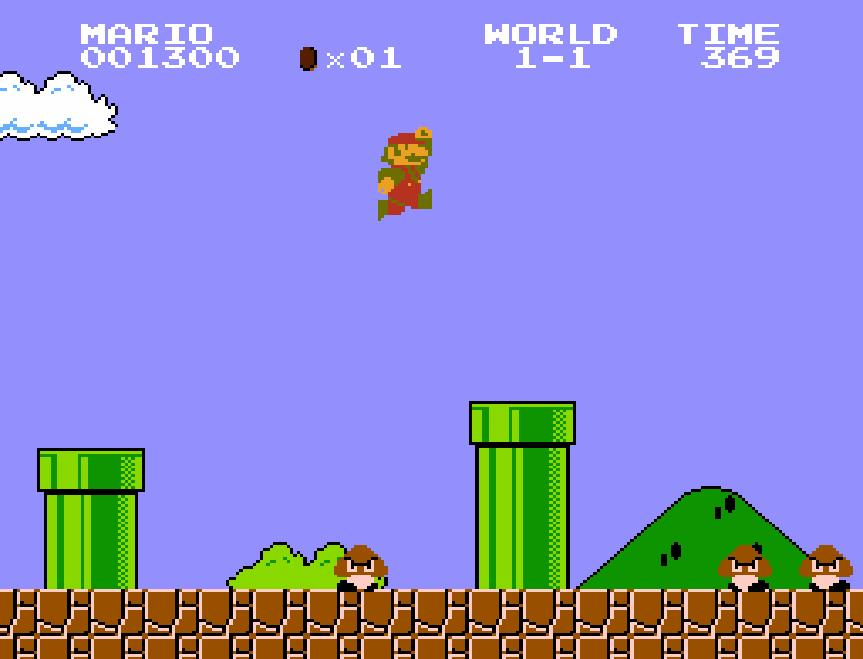big_mario: (376, 124, 434, 222)
